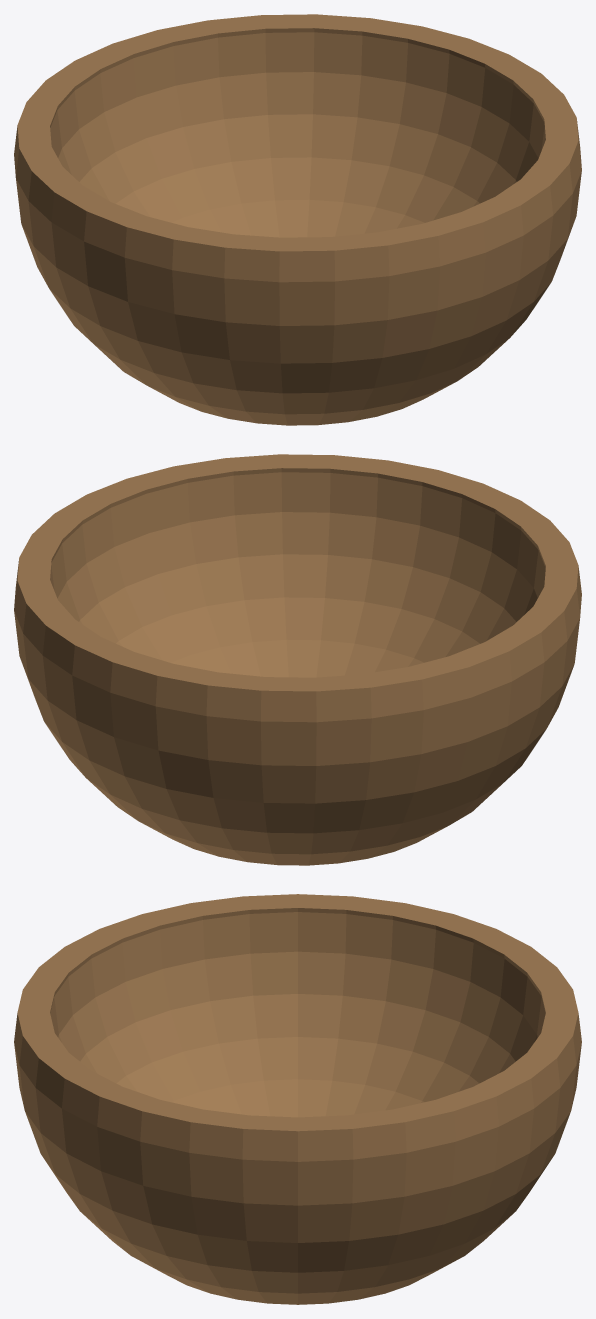
Rendered from bowl.glb.
3 views of the same model, one above another, from view 1: azimuth 30°, elevation 25°; view 2: azimuth 150°, elevation 25°; view 3: azimuth 270°, elevation 25° (orthographic).
Visible parts, largest first — view 1: Sphere; view 2: Sphere; view 3: Sphere.
Boxes of the visible parts, box(x1,y1,x2,y2) form: Sphere: box(14, 14, 581, 425); Sphere: box(14, 454, 581, 865); Sphere: box(14, 894, 581, 1304).
Size of the model in its own units: 2.4 by 1.06 by 2.4.
